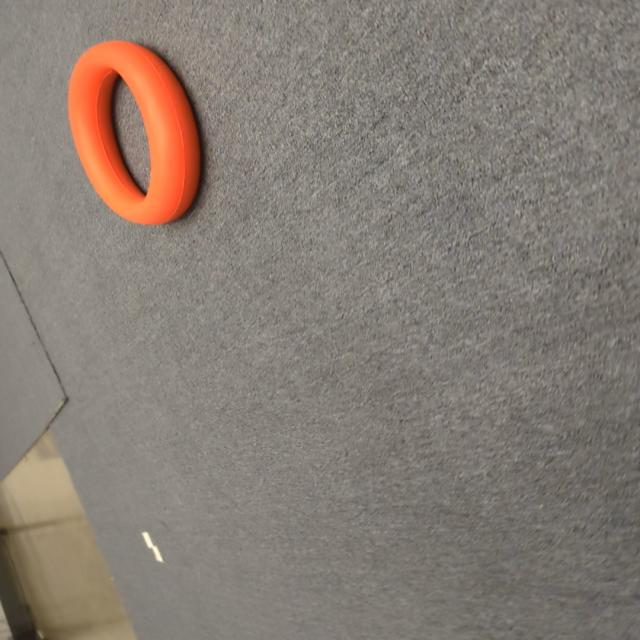note: (70, 41, 202, 222)
